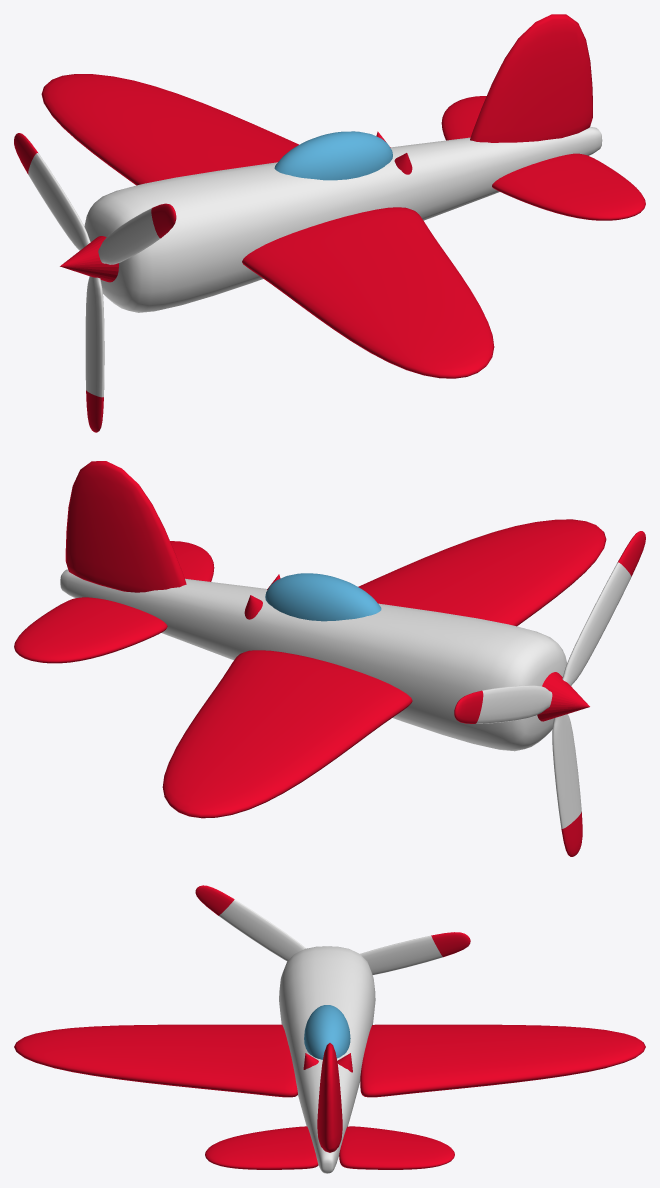
The model's file is planeUV.fbx.
3 views of the same model, one above another, from view 1: azimuth 30°, elevation 25°; view 2: azimuth 150°, elevation 25°; view 3: azimuth 270°, elevation 25° (orthographic). The views are drawn at different scales.
Parts seen in each view (by area): view 1: Cube.004, plane, Cube.006, Cube.005, Sphere, Cube.001, Cube, Cube.002, Cone; view 2: Cube.004, plane, Cube.006, Cube.005, Sphere, Cube.002, Cube.001, Cube, Cone; view 3: Cube.004, plane, Cube.005, Cube.002, Cube, Cube.006, Sphere.
Boxes of the visible parts, box(x1,y1,x2,y2) form: Cube.004: box(41, 74, 494, 378); plane: box(84, 127, 602, 312); Cube.006: box(470, 14, 592, 142); Cube.005: box(441, 96, 645, 220); Sphere: box(274, 131, 392, 180); Cube.001: box(85, 276, 104, 432); Cube: box(14, 133, 90, 250); Cube.002: box(98, 203, 176, 264); Cone: box(60, 236, 118, 282); Cube.004: box(162, 519, 606, 818); plane: box(60, 569, 567, 751); Cube.006: box(65, 461, 186, 592); Cube.005: box(14, 541, 214, 663); Sphere: box(265, 573, 381, 621); Cube.002: box(562, 531, 645, 685); Cube.001: box(552, 714, 582, 856); Cube: box(454, 685, 552, 723); Cone: box(537, 672, 589, 721); Cube.004: box(14, 1024, 645, 1097); plane: box(279, 946, 375, 1173); Cube.005: box(205, 1126, 454, 1169); Cube.002: box(195, 885, 305, 961); Cube: box(360, 932, 470, 974); Cube.006: box(317, 1043, 342, 1152); Sphere: box(304, 1005, 350, 1059).
Size of the model in its own units: 552 by 289 by 722.
